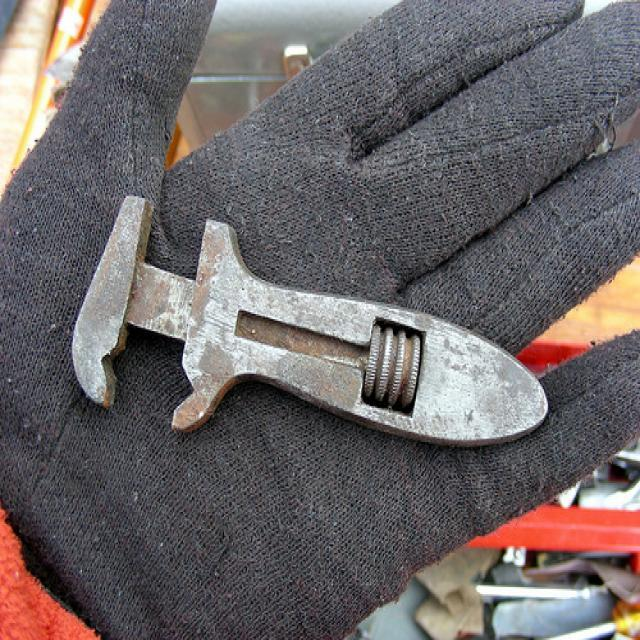wrench: (59, 188, 554, 448)
